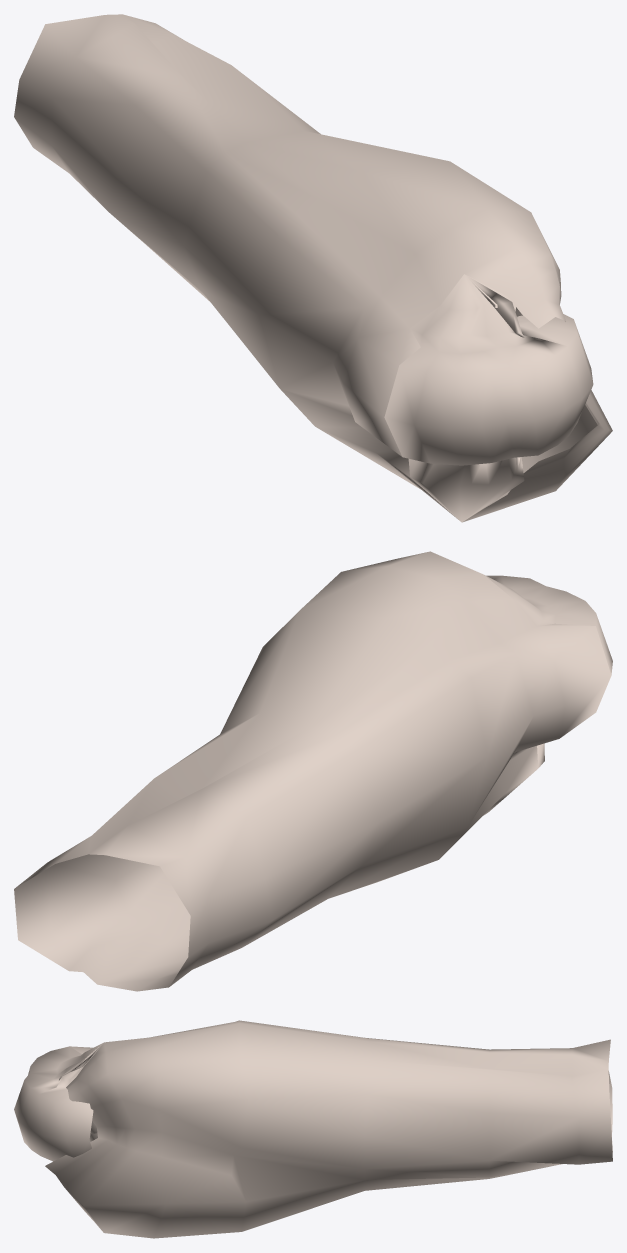
File: UpArm.L.dae
3 renders of one model, top to bottom at view 1: azimuth 30°, elevation 25°; view 2: azimuth 150°, elevation 25°; view 3: azimuth 270°, elevation 25°, orthographic. The views are drawn at different scales.
Visible parts, largest first — view 1: UpArm_L; view 2: UpArm_L; view 3: UpArm_L.
Part boxes in pixels (x1,y1,x2,y2): UpArm_L: (14,14,612,522); UpArm_L: (14,551,612,991); UpArm_L: (14,1020,612,1238).
Bounding box in the file's own units: 0.0908 × 0.2908 × 0.0992.
